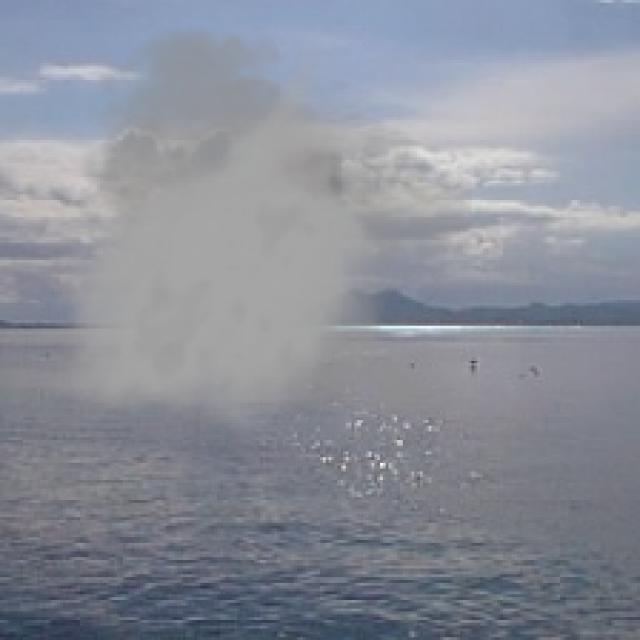smoke: (46, 23, 471, 434)
